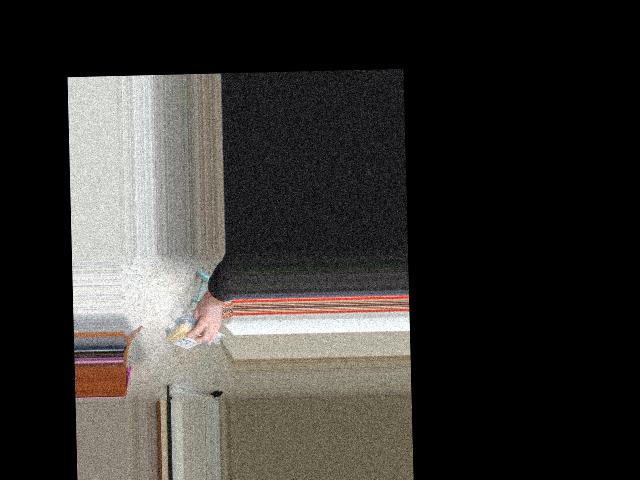cheese: (163, 320, 209, 351)
